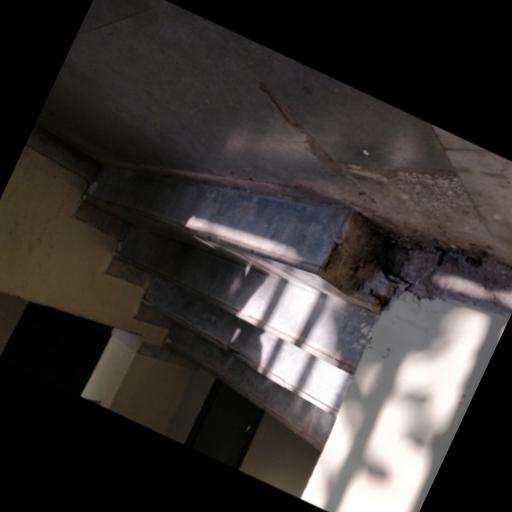stairs: (84, 165, 397, 447)
